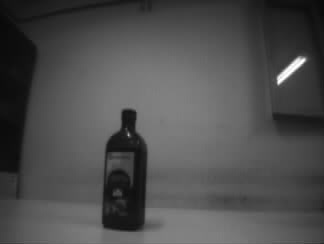Bottle: (100, 107, 148, 231)
